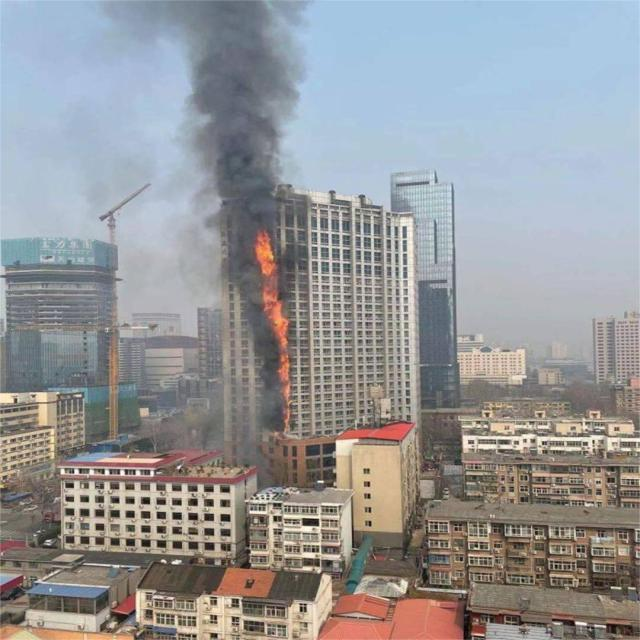Fire: (256, 227, 286, 431)
Smoke: (174, 0, 296, 216)
